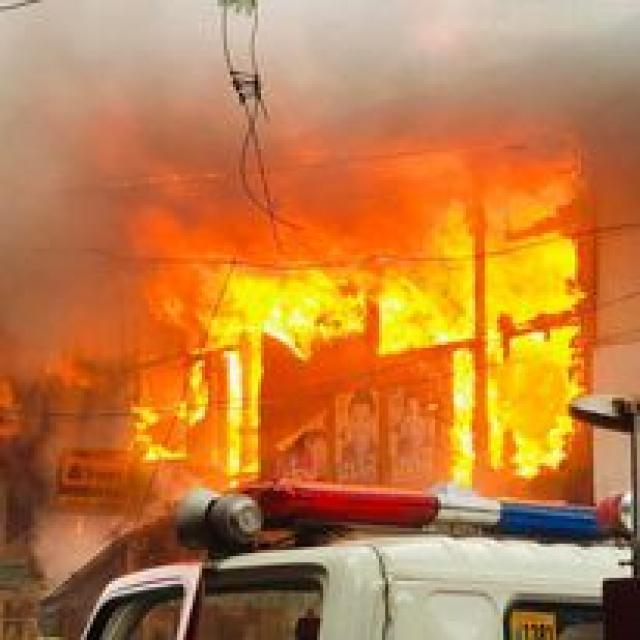Fire: (184, 262, 388, 427), (488, 175, 576, 462), (377, 197, 478, 351)
Smoke: (6, 4, 640, 332)
